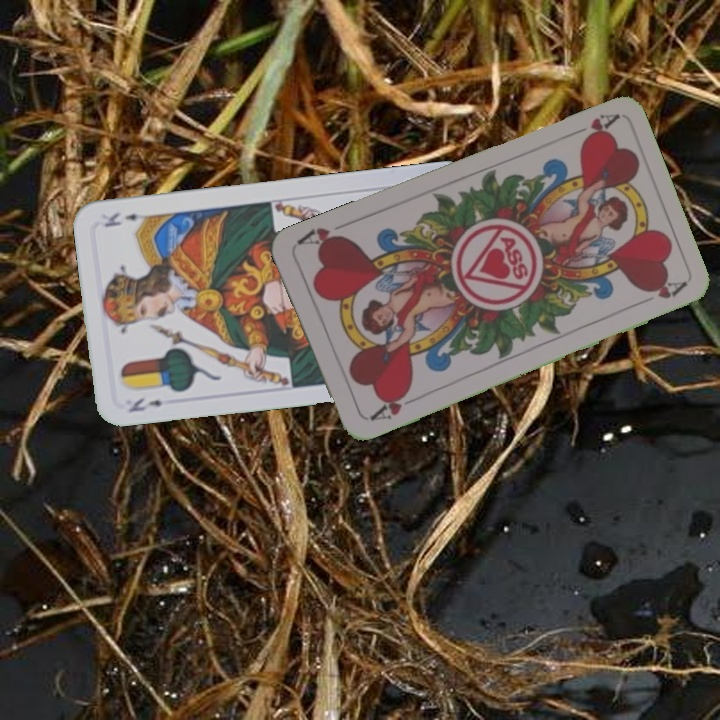EK: (124, 393, 165, 415)
HA: (562, 109, 620, 147), (362, 386, 419, 424)
